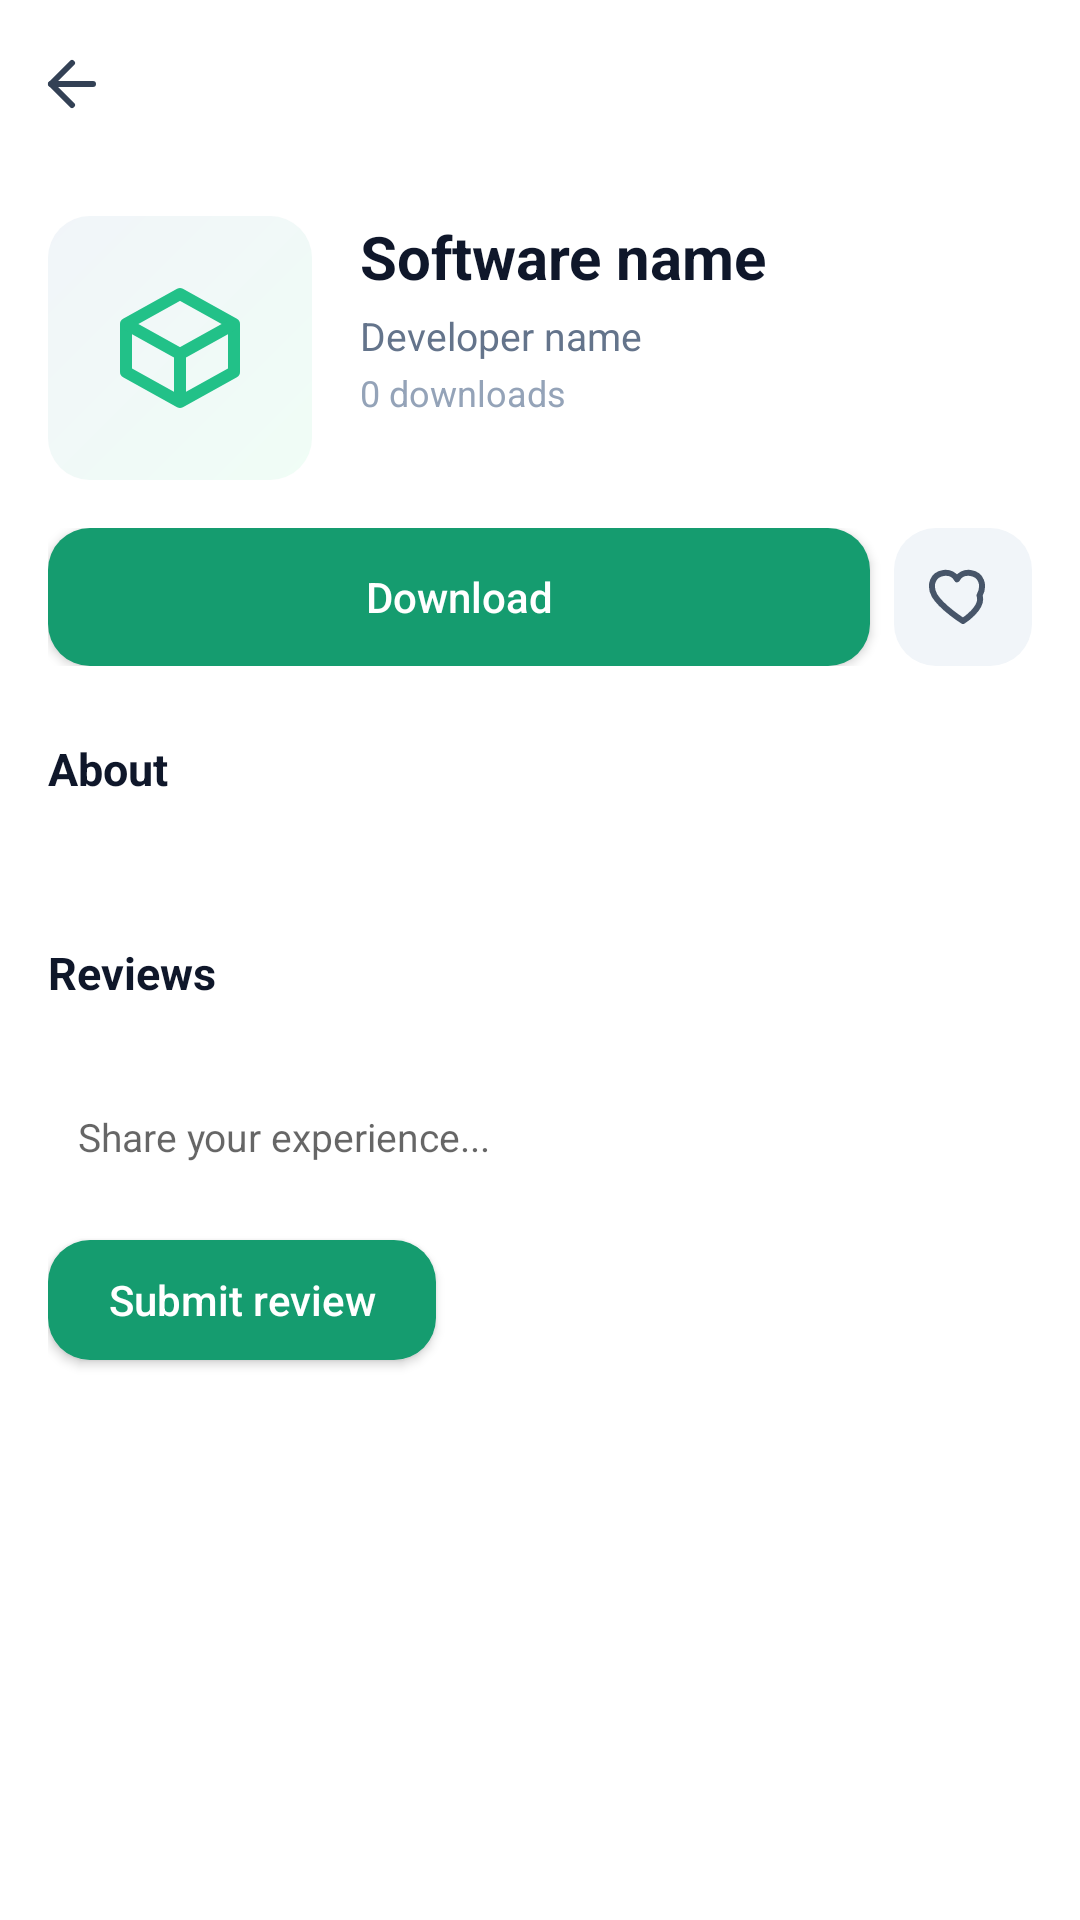

Named icons in this screenshot (1080×1920) and their centers, point (x, y):
back: point (72, 84)
heart: point (963, 597)
package: point (180, 348)
